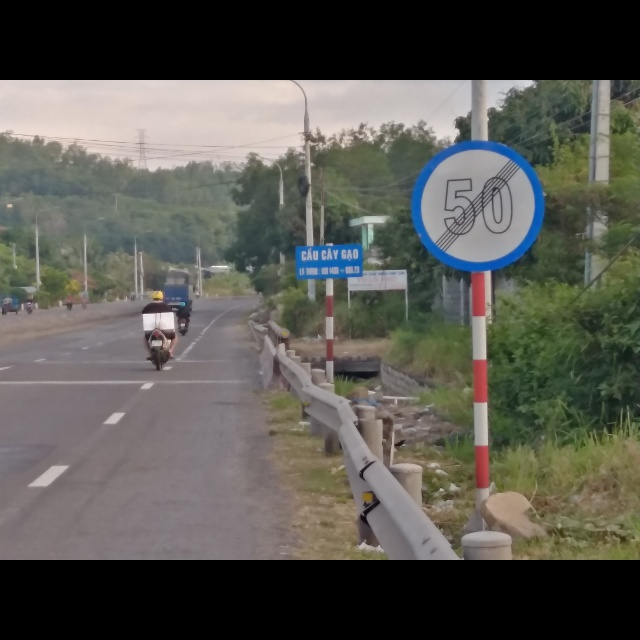Hết hạn chế tốc độ tối đa 50km/h: (407, 137, 544, 272)
